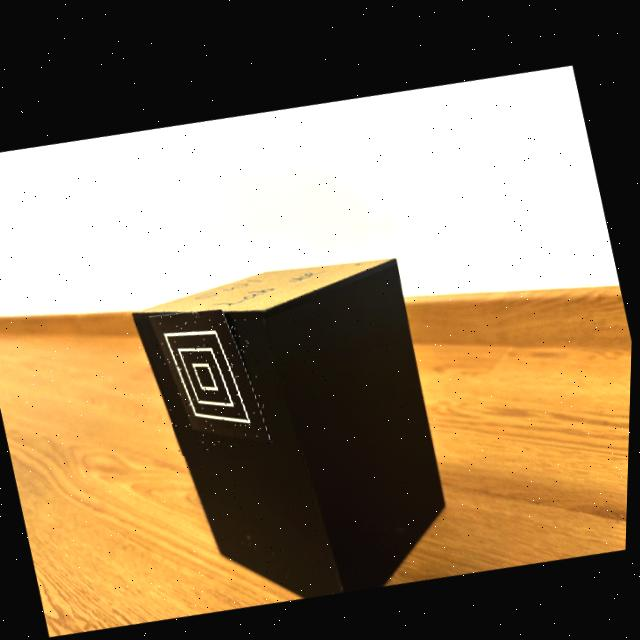BULLSEYE: (151, 303, 274, 436)
